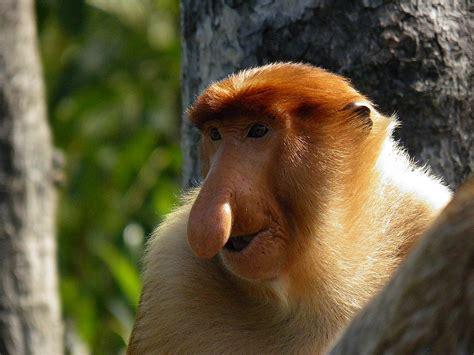monkey: (127, 63, 450, 355)
